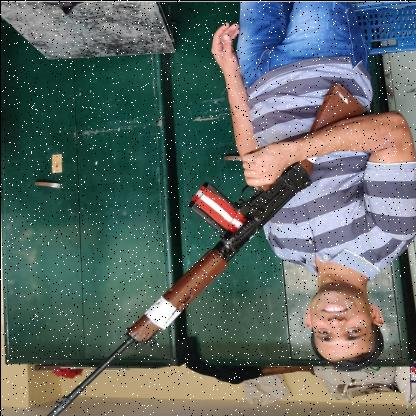rifle: (47, 78, 367, 415)
